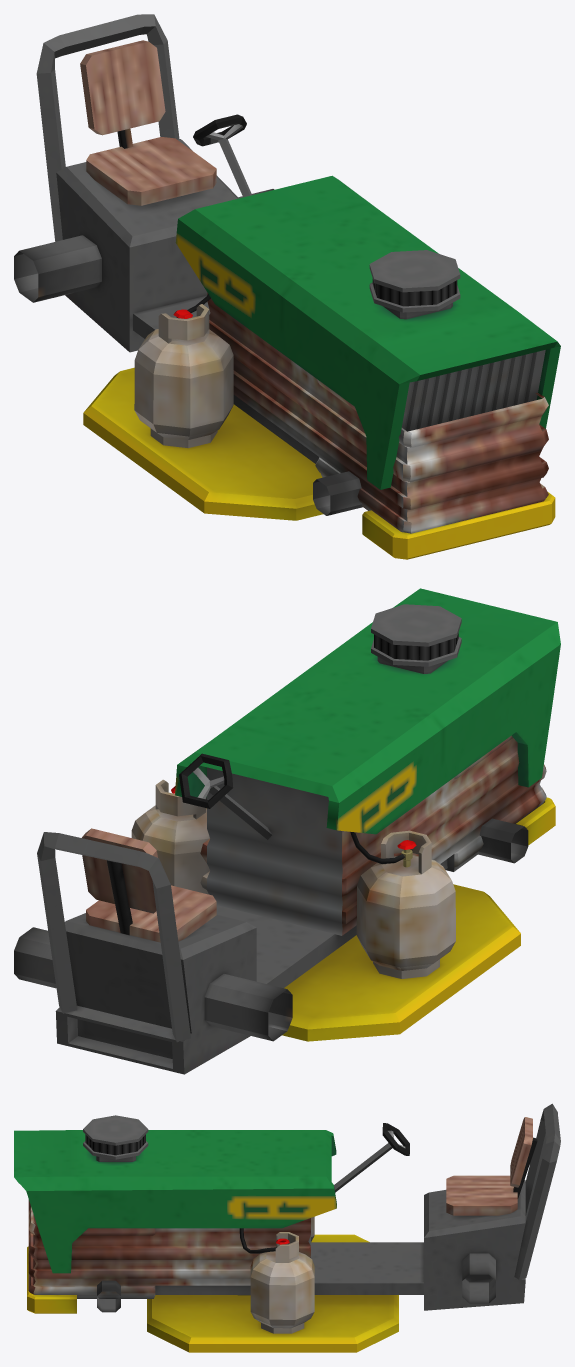
The model's file is Mower.fbx.
3 views of the same model, one above another, from view 1: azimuth 30°, elevation 25°; view 2: azimuth 150°, elevation 25°; view 3: azimuth 270°, elevation 25° (orthographic). The views are drawn at different scales.
Parts seen in each view (by area): view 1: Body; view 2: Body; view 3: Body.
Part boxes in pixels (<box>): Body: <box>14,14,560,559</box>; Body: <box>14,588,560,1074</box>; Body: <box>14,1103,560,1352</box>.
Size of the model in its own units: 22.43 by 17.44 by 48.43.
